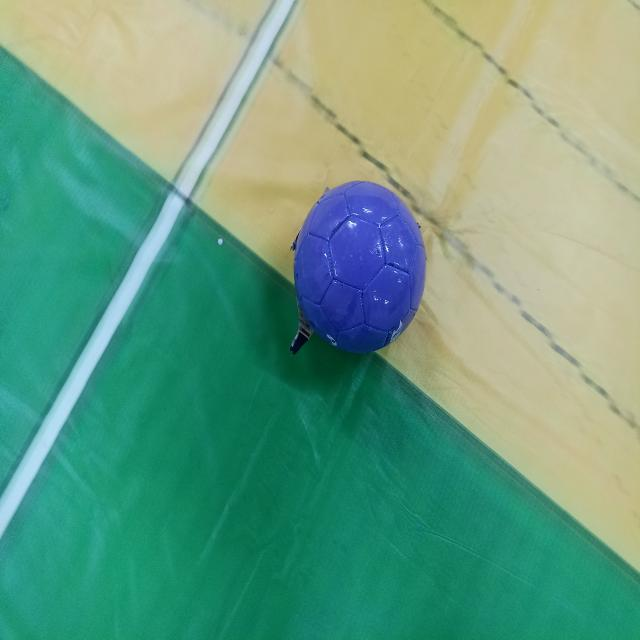purple_ball: (286, 161, 436, 362)
